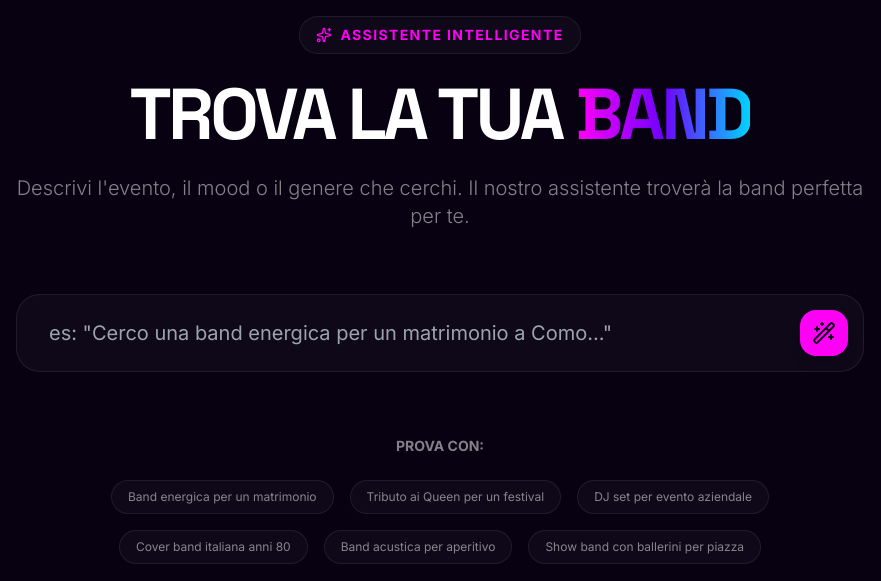
Test case: BandFinder › shows loading skeleton during AI search
Step 1. Type "Band energica" into the field named "Descrivi la band che cerchi" → (440, 333), box [16,294,864,372]
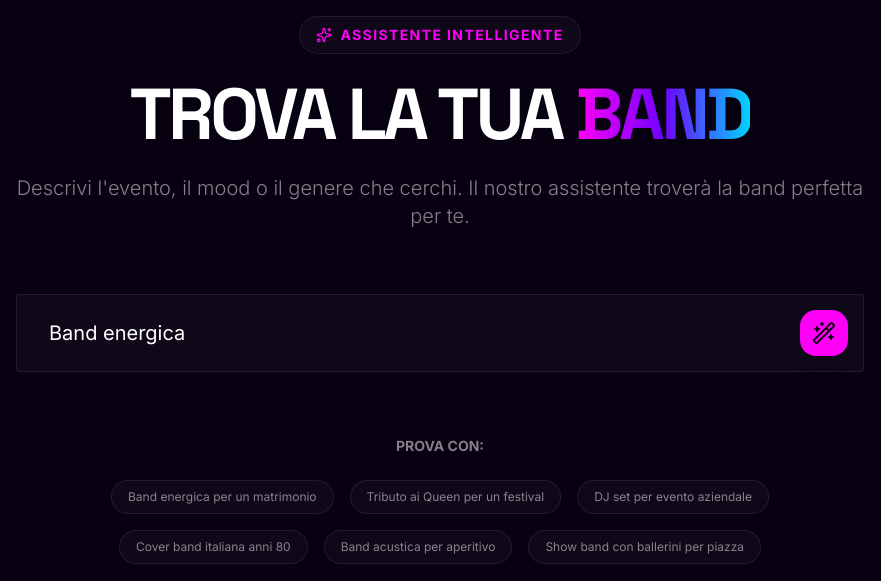
Step 2. Click the submit button → (824, 333), box [800,310,848,356]
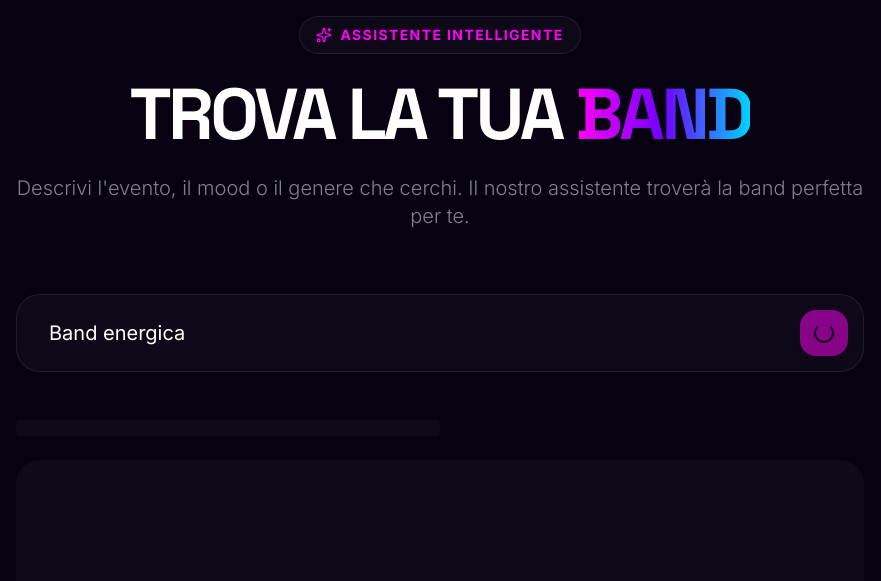
Check: the element with class "animate-spin" is shown, box [814,323,834,343]
